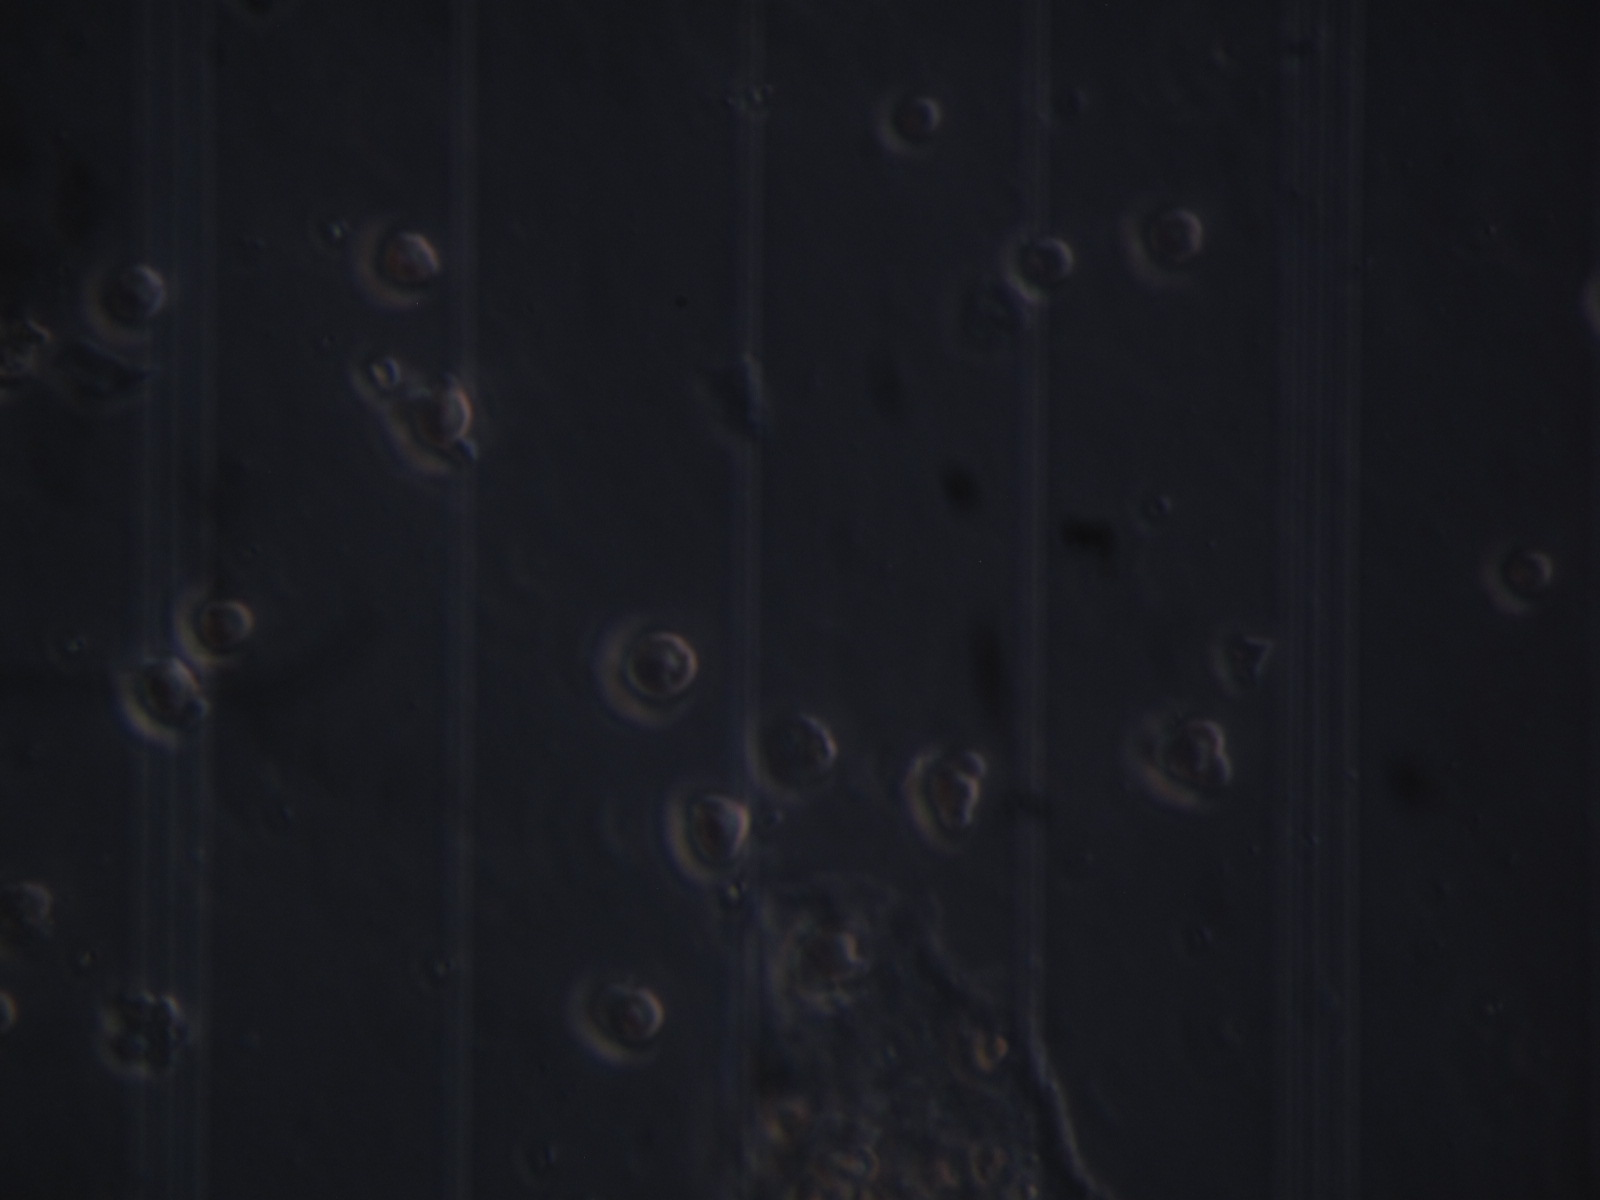hemo: (598, 615, 694, 731), (742, 702, 838, 800), (665, 782, 750, 890), (1141, 718, 1238, 808), (573, 971, 665, 1064), (905, 744, 979, 858), (351, 216, 438, 310), (83, 255, 166, 352), (384, 373, 477, 453), (118, 653, 197, 747), (1124, 202, 1202, 292), (176, 586, 253, 671), (1007, 223, 1073, 306), (872, 89, 942, 159), (1487, 543, 1553, 611), (9, 876, 55, 938)
